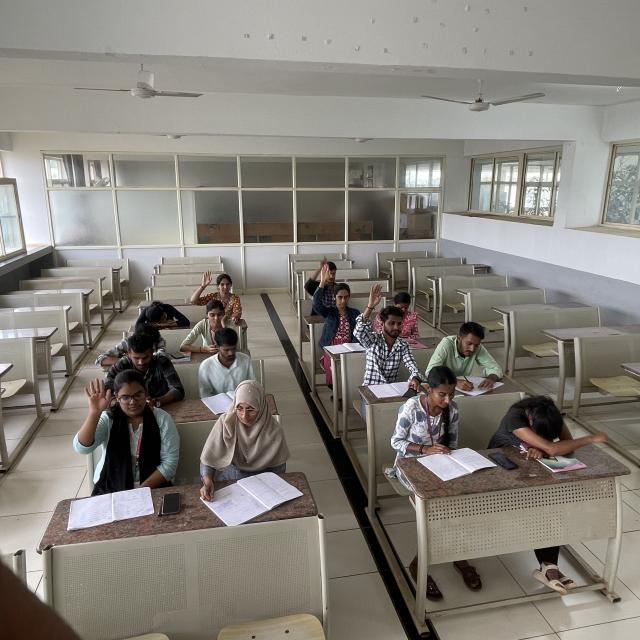Hand Rising: (73, 371, 160, 482), (354, 282, 414, 369), (312, 265, 358, 333), (194, 268, 240, 318), (303, 258, 346, 291)
Reading: (413, 368, 475, 474), (197, 328, 242, 414)
Sleeping: (492, 395, 585, 446), (98, 329, 166, 362), (137, 300, 190, 330)
Using Phone: (108, 342, 176, 408), (183, 299, 237, 359), (379, 291, 428, 340)
Writing: (196, 385, 282, 510), (428, 321, 502, 391)
